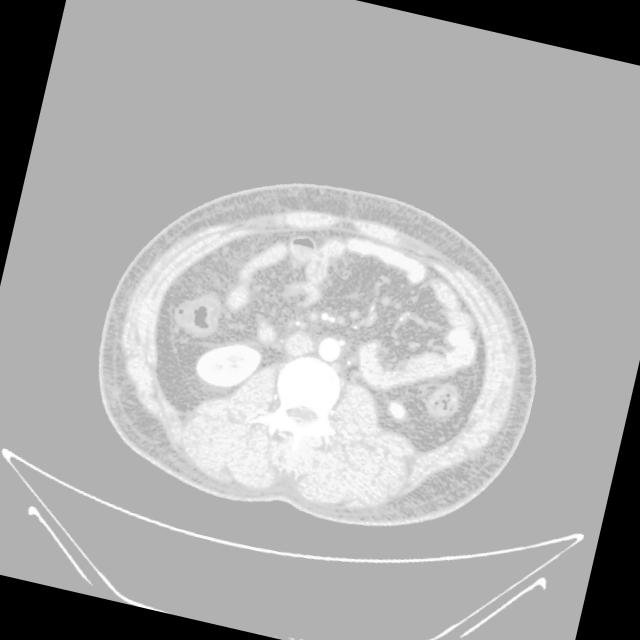NORMAL: (70, 149, 569, 562)
